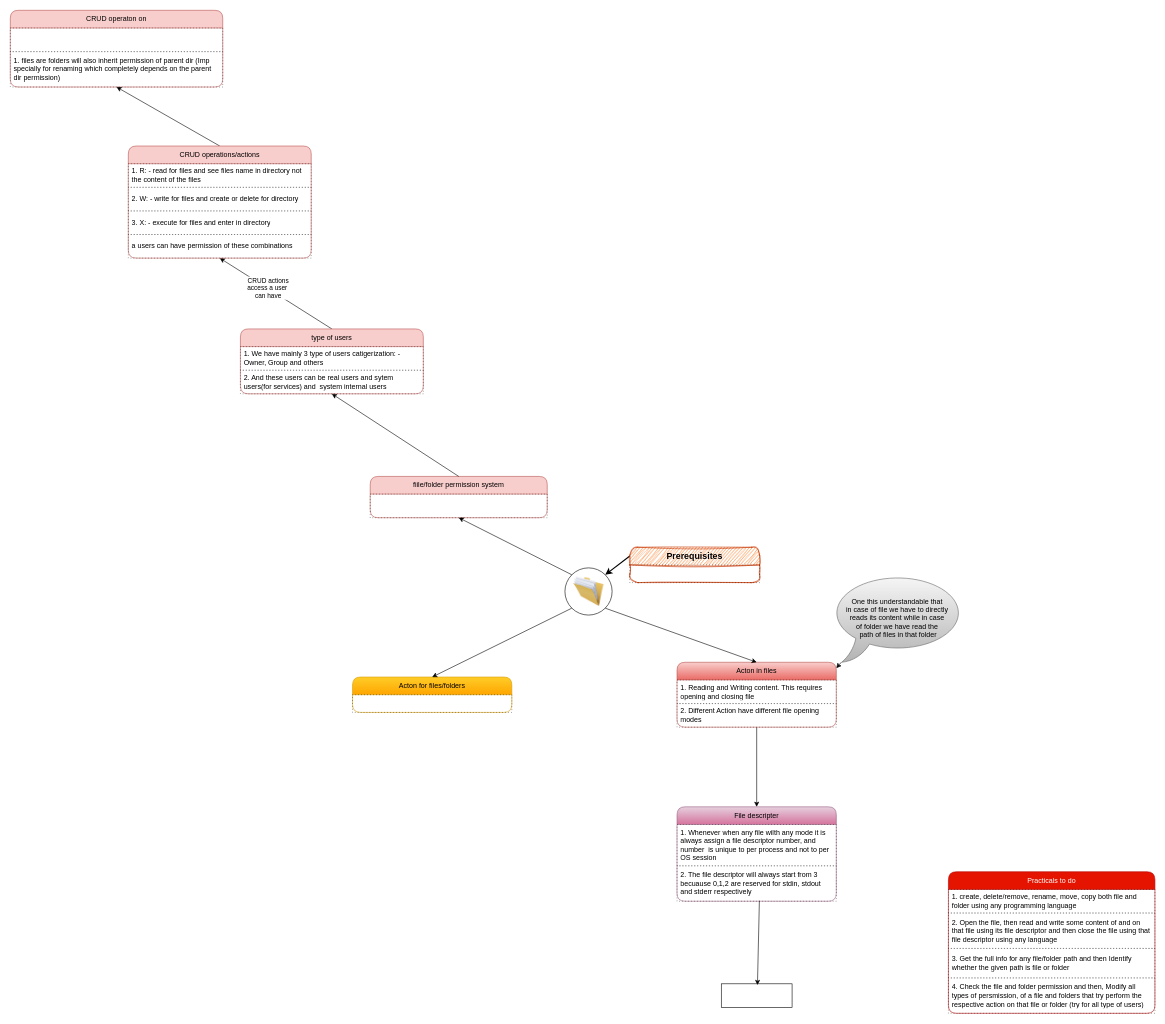
Some shapes in this 1165 by 1024 pixel diagram are drawn without their labels. Here are the shapes that lost their labels. From the top down, the centre of each, then its label:
[116,39]: here the CRUD operations are aplied on files and folder
[458,506]: permission is managed by owner(creater of file/folder) and super/root user
[694,573]: Should about path systems ( ps.svg )
[432,703]: 1. create, delete/remove, rename, move, copy
[756,995]: should know about on cpu.svg
